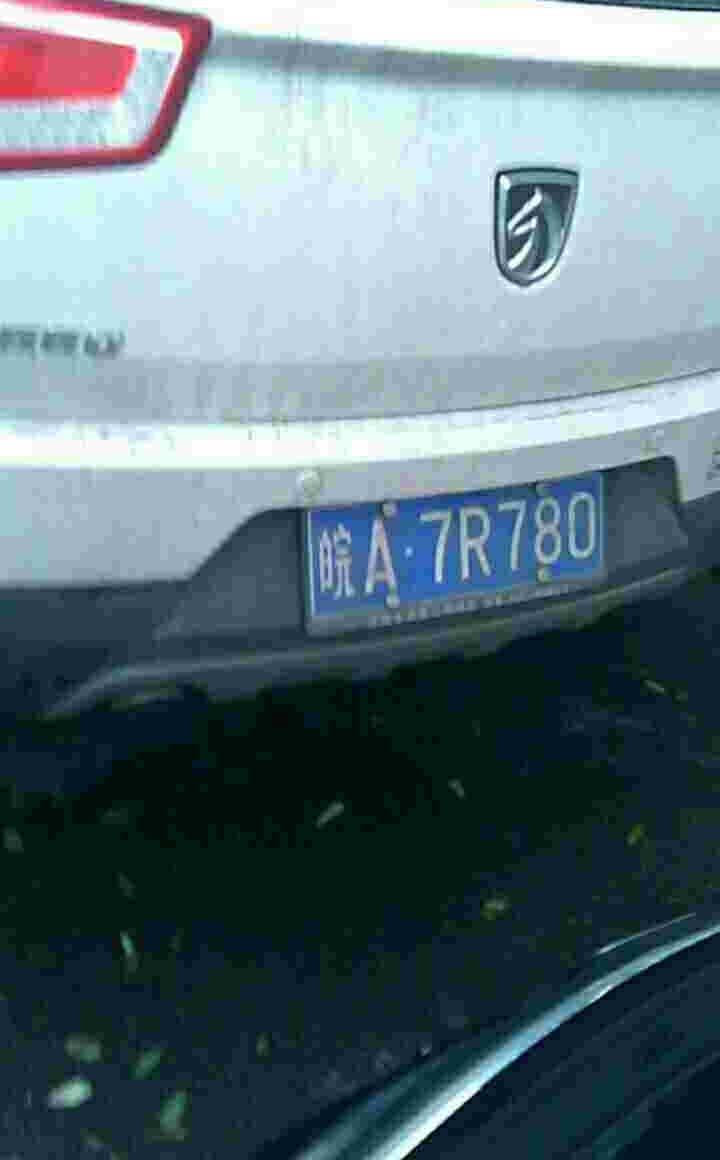license_plate: (320, 476, 612, 614)
